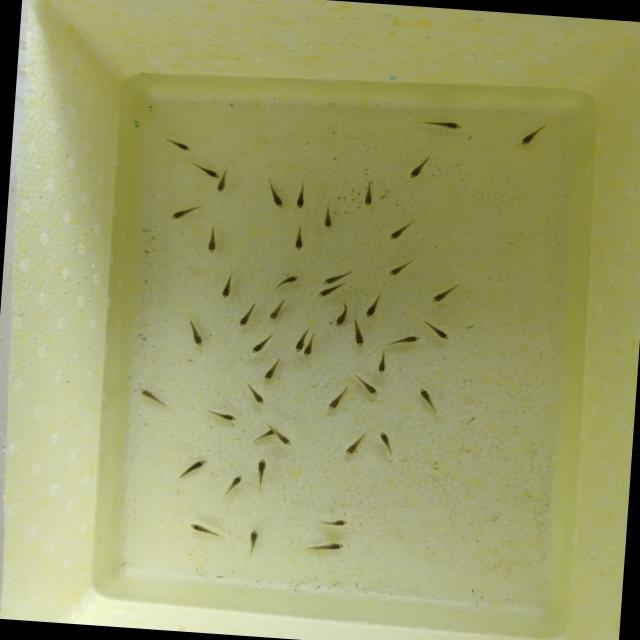fingerling: (514, 118, 552, 152), (425, 278, 464, 310), (412, 114, 467, 135), (173, 454, 210, 484), (184, 518, 228, 541), (167, 199, 206, 224), (300, 536, 348, 556), (349, 372, 384, 399), (135, 384, 174, 408), (412, 384, 442, 414), (385, 216, 415, 246), (320, 385, 351, 414), (404, 152, 432, 184), (245, 329, 278, 356), (421, 316, 454, 343), (342, 428, 370, 459), (250, 454, 274, 490), (220, 470, 248, 500), (240, 381, 271, 408), (262, 178, 288, 210), (384, 256, 417, 280), (361, 290, 387, 320), (331, 296, 354, 328), (201, 225, 223, 258), (372, 346, 394, 378), (236, 298, 258, 330), (385, 331, 424, 349), (242, 524, 262, 559), (266, 296, 291, 324), (162, 134, 195, 155), (185, 320, 208, 350), (204, 407, 242, 425), (216, 271, 238, 302), (186, 160, 220, 180), (374, 428, 396, 458), (272, 271, 302, 292), (290, 223, 310, 254), (314, 514, 352, 530), (260, 357, 284, 382), (360, 178, 378, 210), (349, 321, 368, 350), (319, 202, 337, 232), (292, 179, 308, 212), (272, 428, 296, 449), (291, 326, 306, 354), (315, 285, 337, 303), (302, 336, 316, 358), (214, 178, 229, 196), (319, 273, 336, 287)
